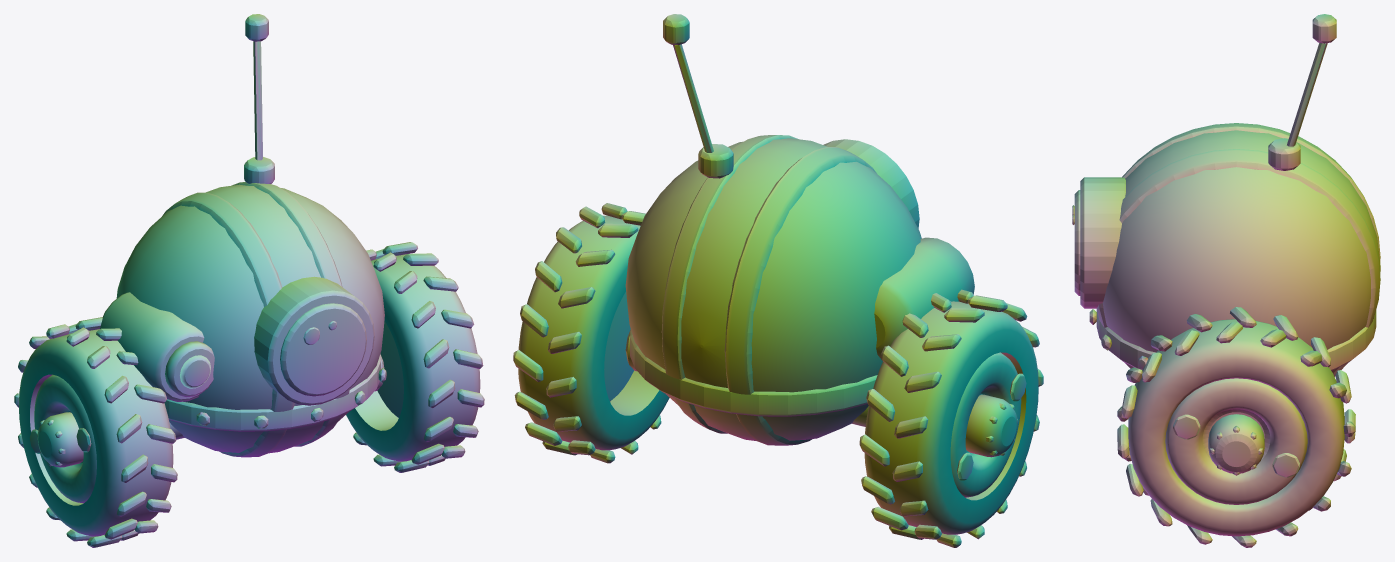
Rendered from skitter_rig.glb.
3 renders of one model, left to right at view 1: azimuth 30°, elevation 25°; view 2: azimuth 150°, elevation 25°; view 3: azimuth 270°, elevation 25°, orthographic. The views are drawn at different scales.
Visible parts, largest first — view 1: turret, wheel_1, wheel_0, barrel; view 2: turret, wheel_1, wheel_0, barrel; view 3: turret, wheel_0.
Part boxes in pixels (x1=…): turret: x1=116, y1=14, x2=386, y2=457; wheel_1: x1=14, y1=317, x2=177, y2=547; wheel_0: x1=346, y1=242, x2=484, y2=472; barrel: x1=100, y1=292, x2=214, y2=401; turret: x1=625, y1=14, x2=921, y2=445; wheel_1: x1=859, y1=289, x2=1043, y2=547; wheel_0: x1=513, y1=203, x2=669, y2=463; barrel: x1=874, y1=237, x2=974, y2=360; turret: x1=1072, y1=14, x2=1380, y2=376; wheel_0: x1=1117, y1=307, x2=1355, y2=547.
Size of the model in its own units: 6.26 by 6.39 by 3.85.
